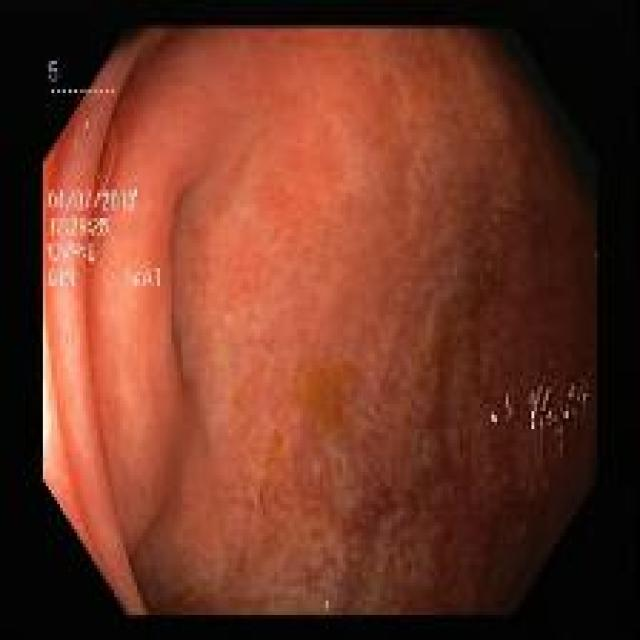ulcerative-colitis: (102, 31, 596, 614)
